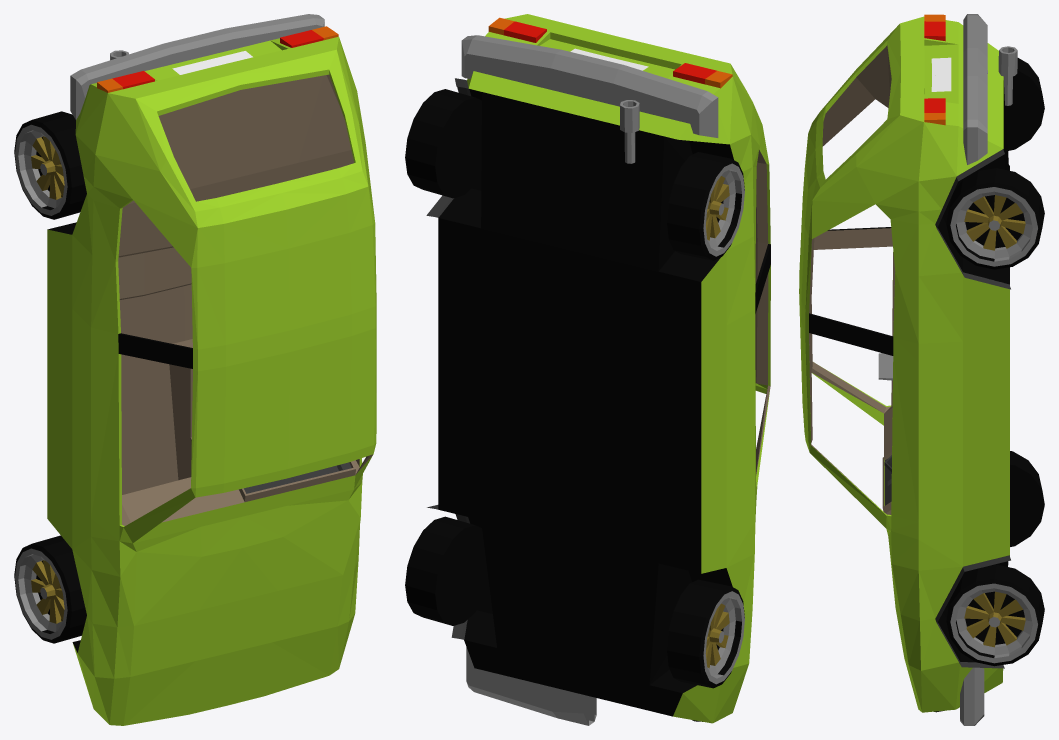
File: Carrito5.fbx
The picture shows the model from 3 angles, left to right: view 1: azimuth 30°, elevation 25°; view 2: azimuth 150°, elevation 25°; view 3: azimuth 270°, elevation 25°; orthographic projection. The views are drawn at different scales.
Visible parts, largest first — view 1: Body, WheelR, WheelFR, Body4, Body5; view 2: Body, WheelR, Body4, WheelFL, WheelFR, Body3, Body5, Exhaust, Body2; view 3: Body, WheelR, WheelFL, Body4, WheelFR, Body2, Body3, Body5, Exhaust.
Boxes of the visible parts, bbox=[...] form: Body: bbox=[47, 36, 376, 725]; WheelR: bbox=[14, 111, 86, 219]; WheelFR: bbox=[14, 535, 86, 643]; Body4: bbox=[70, 14, 324, 119]; Body5: bbox=[97, 26, 338, 92]; Body: bbox=[438, 14, 770, 723]; WheelR: bbox=[405, 89, 744, 260]; Body4: bbox=[461, 35, 718, 137]; WheelFL: bbox=[405, 516, 488, 625]; WheelFR: bbox=[667, 579, 744, 688]; Body3: bbox=[466, 647, 596, 725]; Body5: bbox=[488, 17, 732, 88]; Exhaust: bbox=[620, 100, 639, 163]; Body2: bbox=[426, 78, 470, 639]; Body: bbox=[799, 16, 1009, 712]; WheelR: bbox=[946, 58, 1044, 269]; WheelFL: bbox=[946, 564, 1044, 666]; Body4: bbox=[963, 14, 987, 164]; WheelFR: bbox=[1010, 451, 1044, 546]; Body2: bbox=[935, 149, 1010, 668]; Body3: bbox=[960, 667, 984, 725]; Body5: bbox=[924, 14, 945, 125]; Exhaust: bbox=[998, 46, 1017, 105].
Size of the model in its own units: 190 by 406 by 147.
